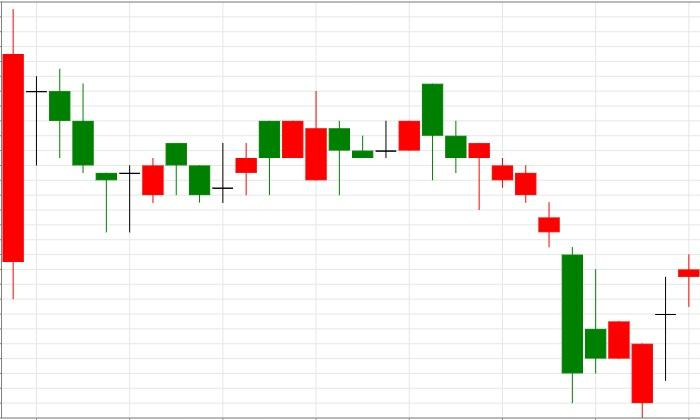three_black_crows_fall: (2, 9, 118, 300)
